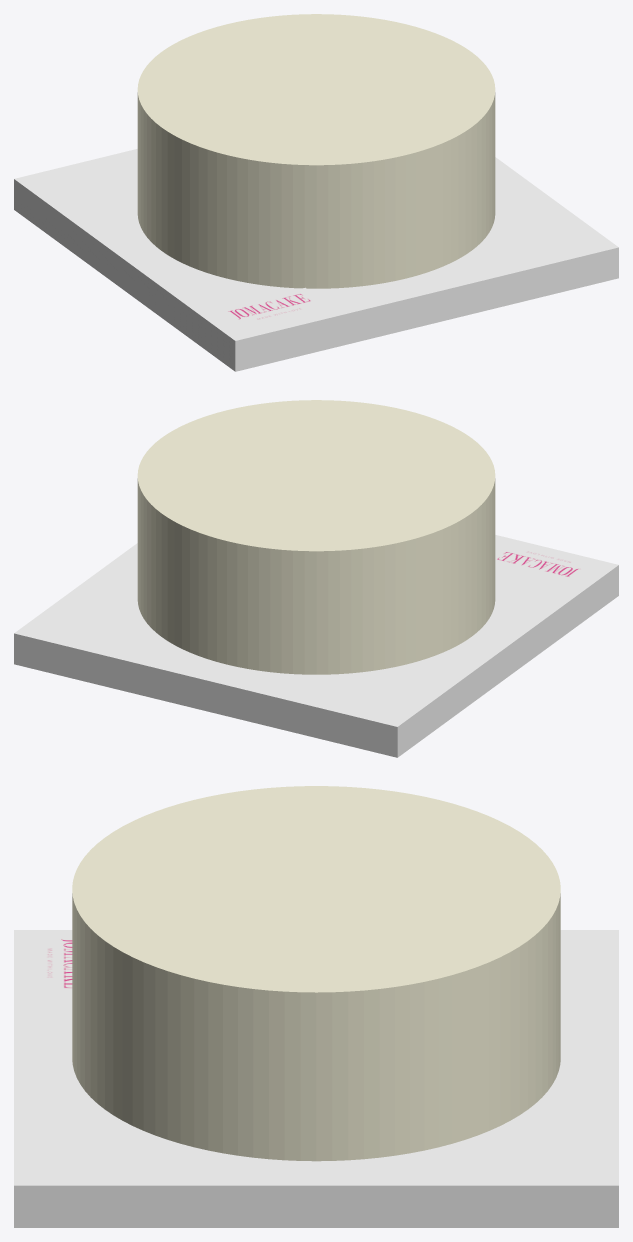
The model's file is cake_8in_layers2_v43.glb.
3 views of the same model, one above another, from view 1: azimuth 30°, elevation 25°; view 2: azimuth 150°, elevation 25°; view 3: azimuth 270°, elevation 25° (orthographic). The views are drawn at different scales.
Parts seen in each view (by area): view 1: Cake, Board, Logo; view 2: Cake, Board, Logo; view 3: Cake, Board, Logo.
Boxes of the visible parts, x1=… form: Cake: x1=137, y1=14, x2=495, y2=288; Board: x1=14, y1=149, x2=618, y2=371; Logo: x1=213, y1=287, x2=331, y2=329; Cake: x1=137, y1=400, x2=495, y2=674; Board: x1=14, y1=535, x2=618, y2=757; Logo: x1=495, y1=541, x2=600, y2=582; Cake: x1=72, y1=786, x2=560, y2=1161; Board: x1=14, y1=930, x2=618, y2=1227; Logo: x1=32, y1=933, x2=72, y2=994.
Size of the model in its own units: 0.26 by 0.1 by 0.26.
